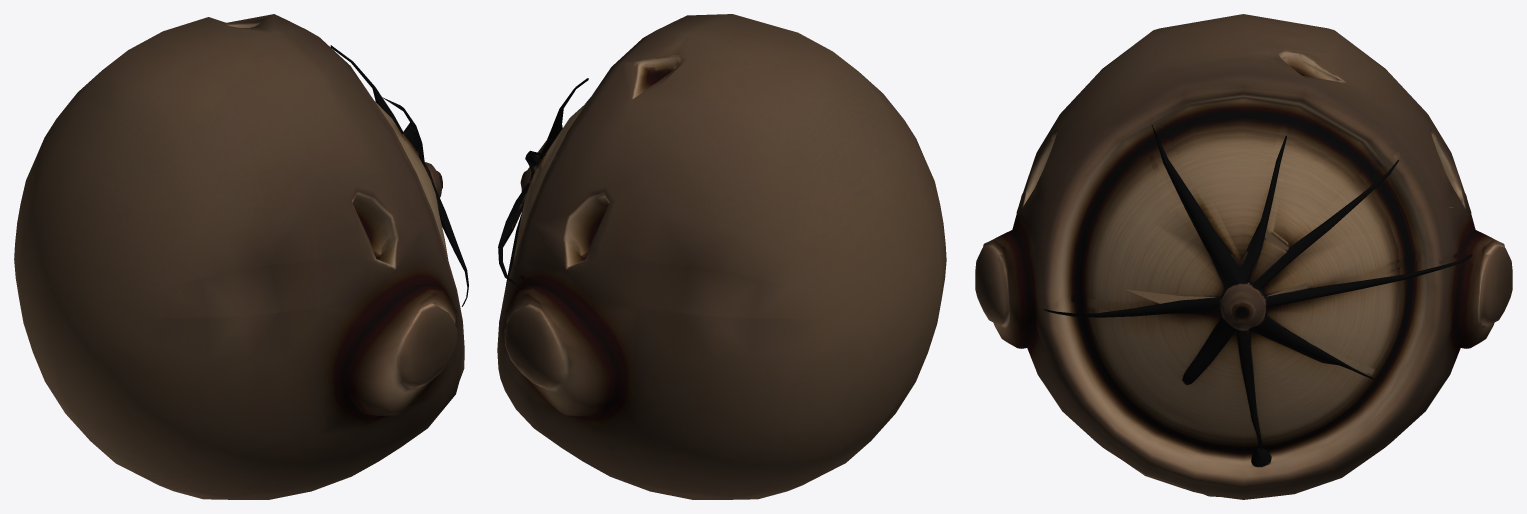
File: glass_bead_focus.glb
The picture shows the model from 3 angles, left to right: view 1: azimuth 30°, elevation 25°; view 2: azimuth 150°, elevation 25°; view 3: azimuth 270°, elevation 25°; orthographic projection.
Visible parts, largest first — view 1: base_model_path; view 2: base_model_path; view 3: base_model_path.
Boxes of the visible parts, <box> form: base_model_path: <box>14,14,468,499</box>; base_model_path: <box>497,14,946,499</box>; base_model_path: <box>975,14,1512,499</box>.
Size of the model in its own units: 0.8157 by 0.8783 by 0.9917.
1 material, 1 textured.
